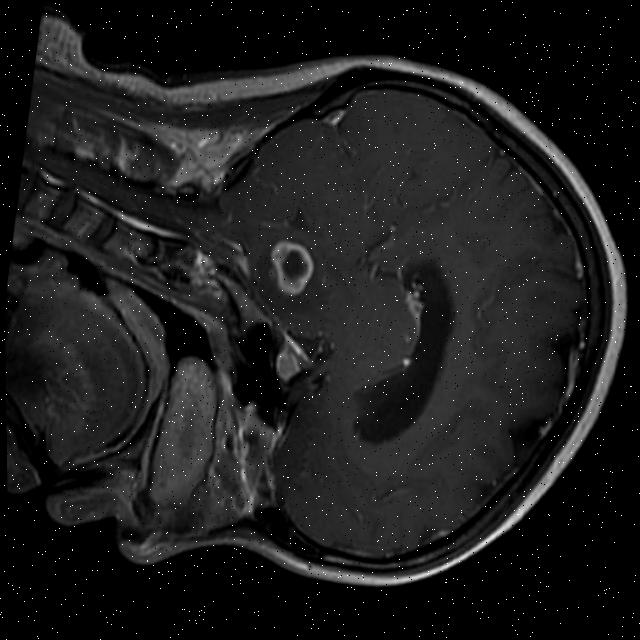Glioma: (264, 237, 318, 300)
Pituitary: (273, 343, 305, 387)
